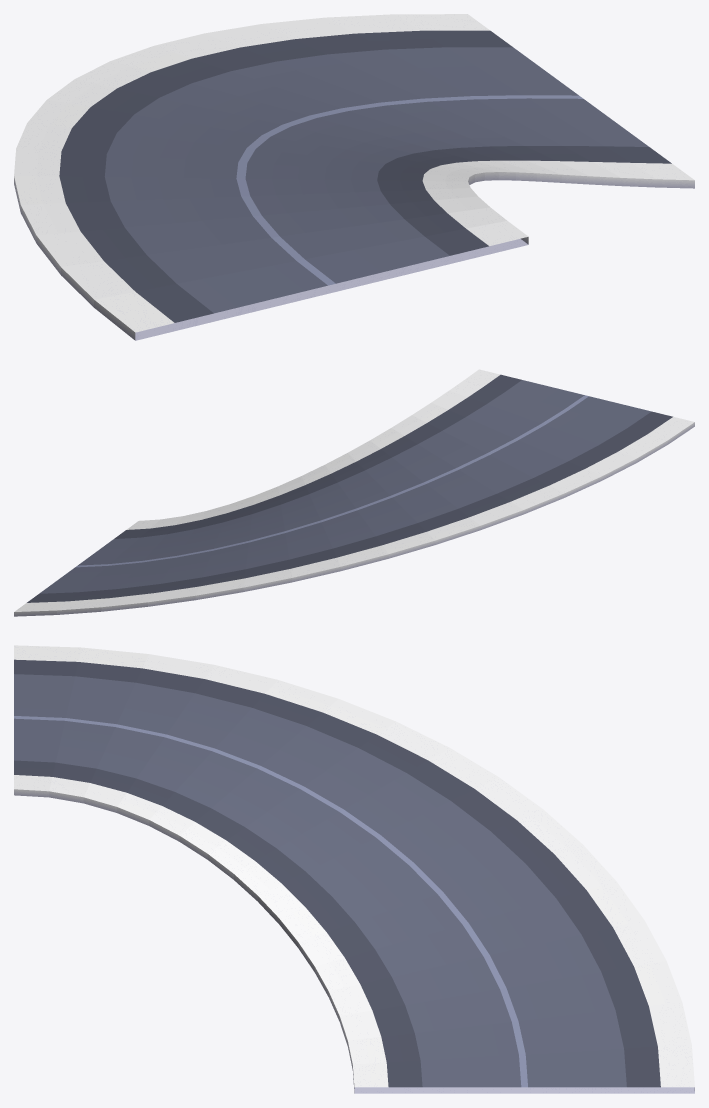
The model's file is road-Turn-Flat-BiSlopeDown-Down2-Right-Size2.glb.
3 renders of one model, top to bottom at view 1: azimuth 30°, elevation 25°; view 2: azimuth 150°, elevation 25°; view 3: azimuth 270°, elevation 25°, orthographic. The views are drawn at different scales.
Parts seen in each view (by area): view 1: road-Turn-Flat-BiSlopeDown-Down2-Right-Size2; view 2: road-Turn-Flat-BiSlopeDown-Down2-Right-Size2; view 3: road-Turn-Flat-BiSlopeDown-Down2-Right-Size2.
Boxes of the visible parts, x1=… form: road-Turn-Flat-BiSlopeDown-Down2-Right-Size2: x1=14, y1=14, x2=694, y2=340; road-Turn-Flat-BiSlopeDown-Down2-Right-Size2: x1=14, y1=369, x2=694, y2=616; road-Turn-Flat-BiSlopeDown-Down2-Right-Size2: x1=14, y1=645, x2=694, y2=1093.
Size of the model in its own units: 2 by 0.52 by 2.
1 material, 1 textured.
